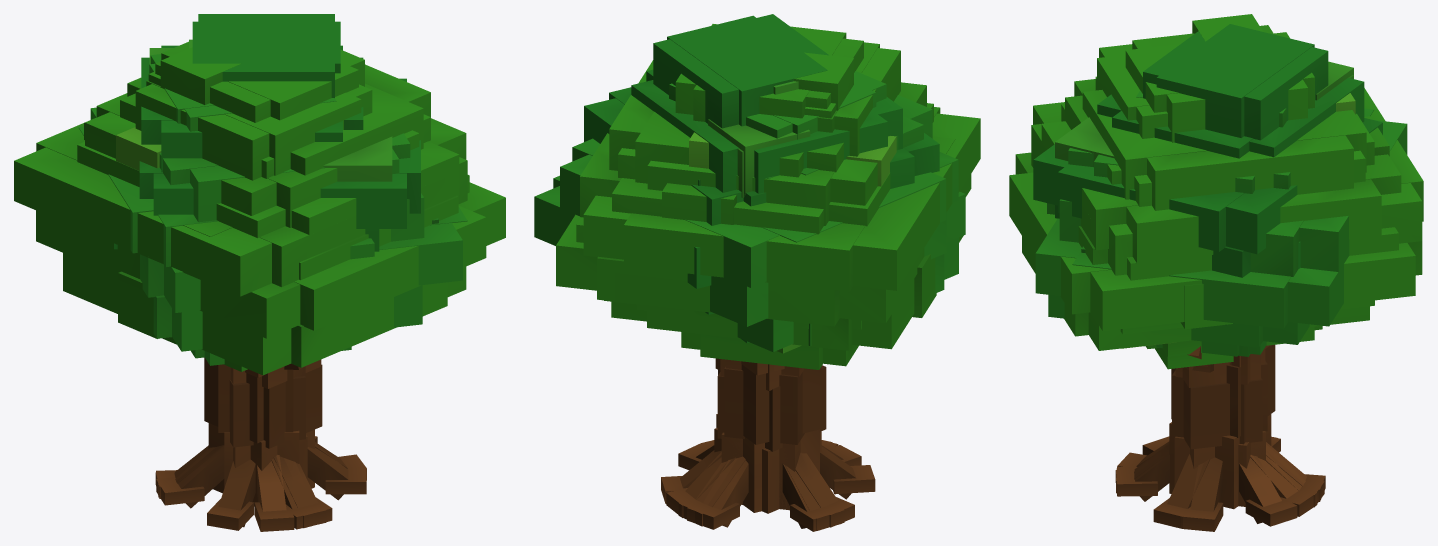
Rendered from ForestTree.fbx.
3 views of the same model, side by side, from view 1: azimuth 30°, elevation 25°; view 2: azimuth 150°, elevation 25°; view 3: azimuth 270°, elevation 25° (orthographic).
Visible parts, largest first — view 1: ForestTree_s1, ForestTree_s3, ForestTree_s4, ForestTree_s2; view 2: ForestTree_s1, ForestTree_s3, ForestTree_s4, ForestTree_s2; view 3: ForestTree_s1, ForestTree_s4, ForestTree_s3, ForestTree_s2.
Boxes of the visible parts, x1=… form: ForestTree_s1: x1=14, y1=71, x2=505, y2=528; ForestTree_s3: x1=114, y1=14, x2=420, y2=530; ForestTree_s4: x1=77, y1=41, x2=469, y2=529; ForestTree_s2: x1=78, y1=54, x2=467, y2=531; ForestTree_s1: x1=556, y1=42, x2=980, y2=527; ForestTree_s3: x1=584, y1=14, x2=939, y2=529; ForestTree_s4: x1=576, y1=24, x2=933, y2=530; ForestTree_s2: x1=534, y1=71, x2=965, y2=531; ForestTree_s1: x1=1009, y1=44, x2=1423, y2=526; ForestTree_s4: x1=1041, y1=14, x2=1401, y2=516; ForestTree_s3: x1=1033, y1=24, x2=1382, y2=528; ForestTree_s2: x1=1035, y1=90, x2=1407, y2=531.
Bounding box in the file's own units: 12.6 × 14.35 × 12.22.
